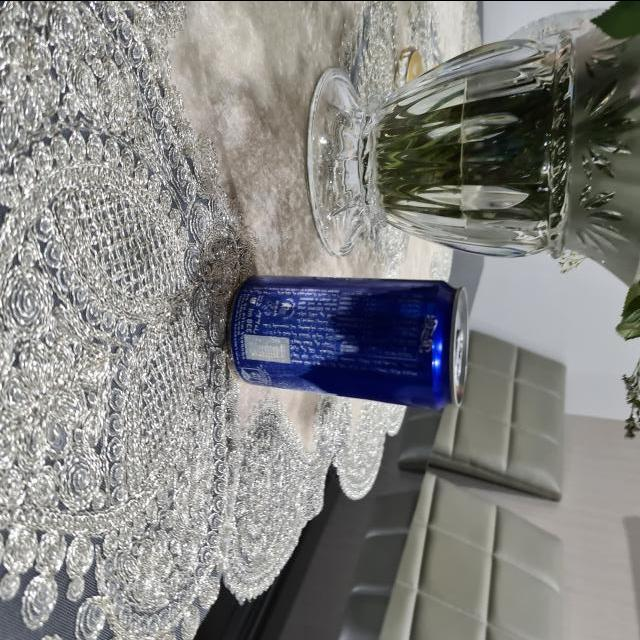can: (224, 268, 474, 416)
